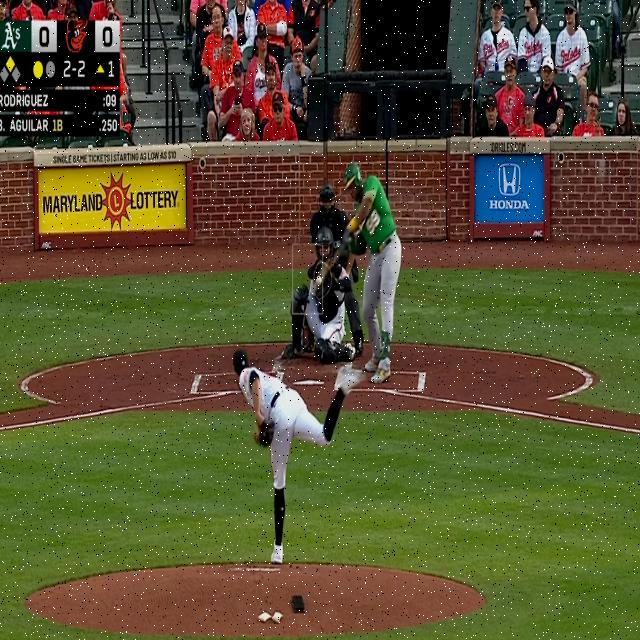baseball: (315, 275, 322, 286)
